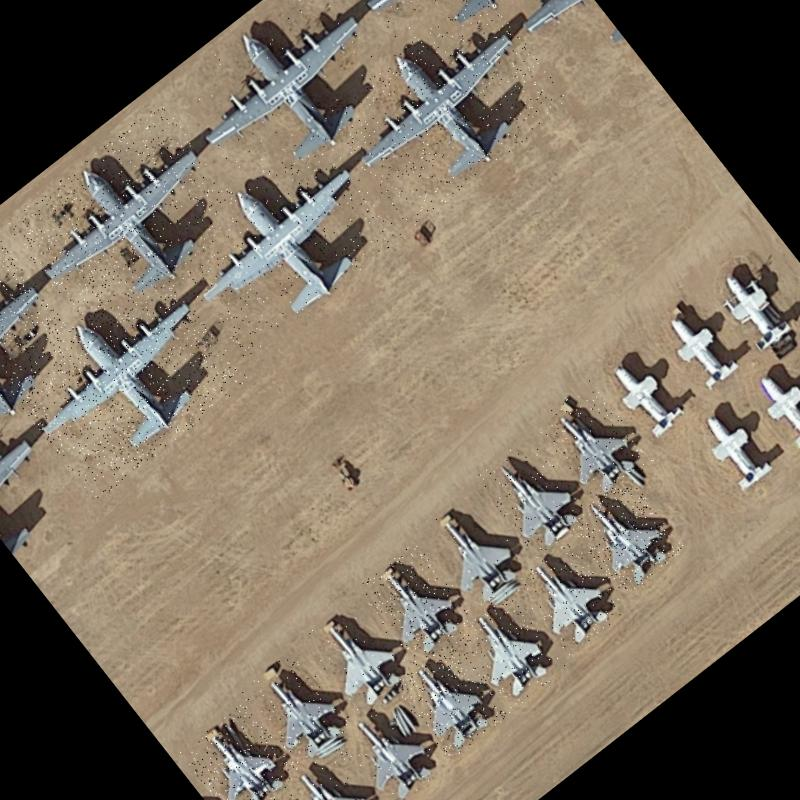A13: (237, 647, 367, 784), (410, 488, 538, 622), (532, 377, 658, 510), (356, 540, 481, 670), (444, 586, 567, 714), (564, 472, 687, 598), (300, 594, 420, 720), (390, 638, 510, 761), (474, 434, 592, 558), (512, 537, 628, 656), (179, 699, 309, 800), (336, 693, 451, 800), (272, 742, 395, 800)
A2: (1, 261, 250, 502), (5, 102, 252, 340), (319, 0, 572, 229), (162, 130, 404, 360), (167, 0, 406, 204), (0, 236, 89, 466), (327, 0, 560, 69)
